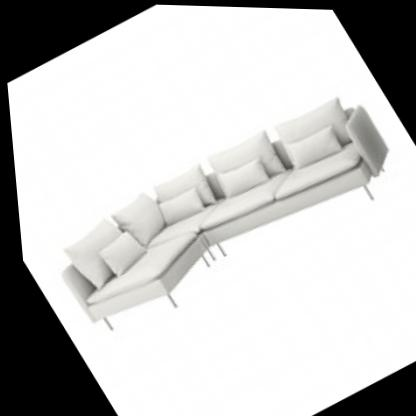Sofa: (2, 30, 416, 384)
